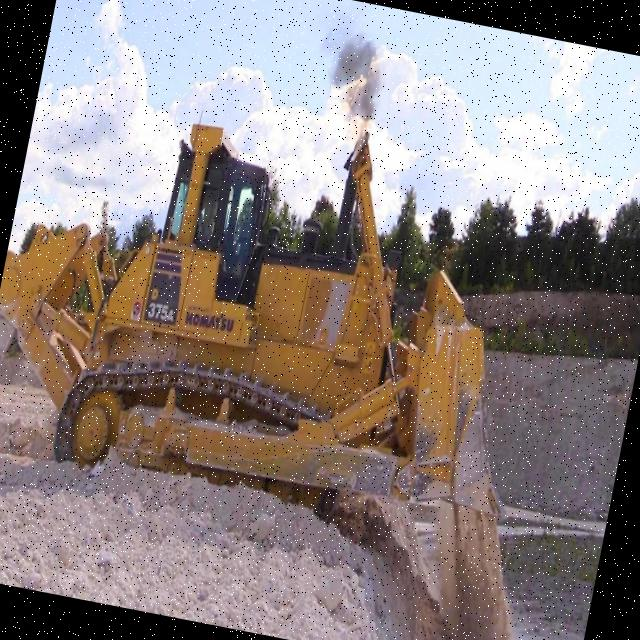Bulldozer: (0, 47, 585, 586)
